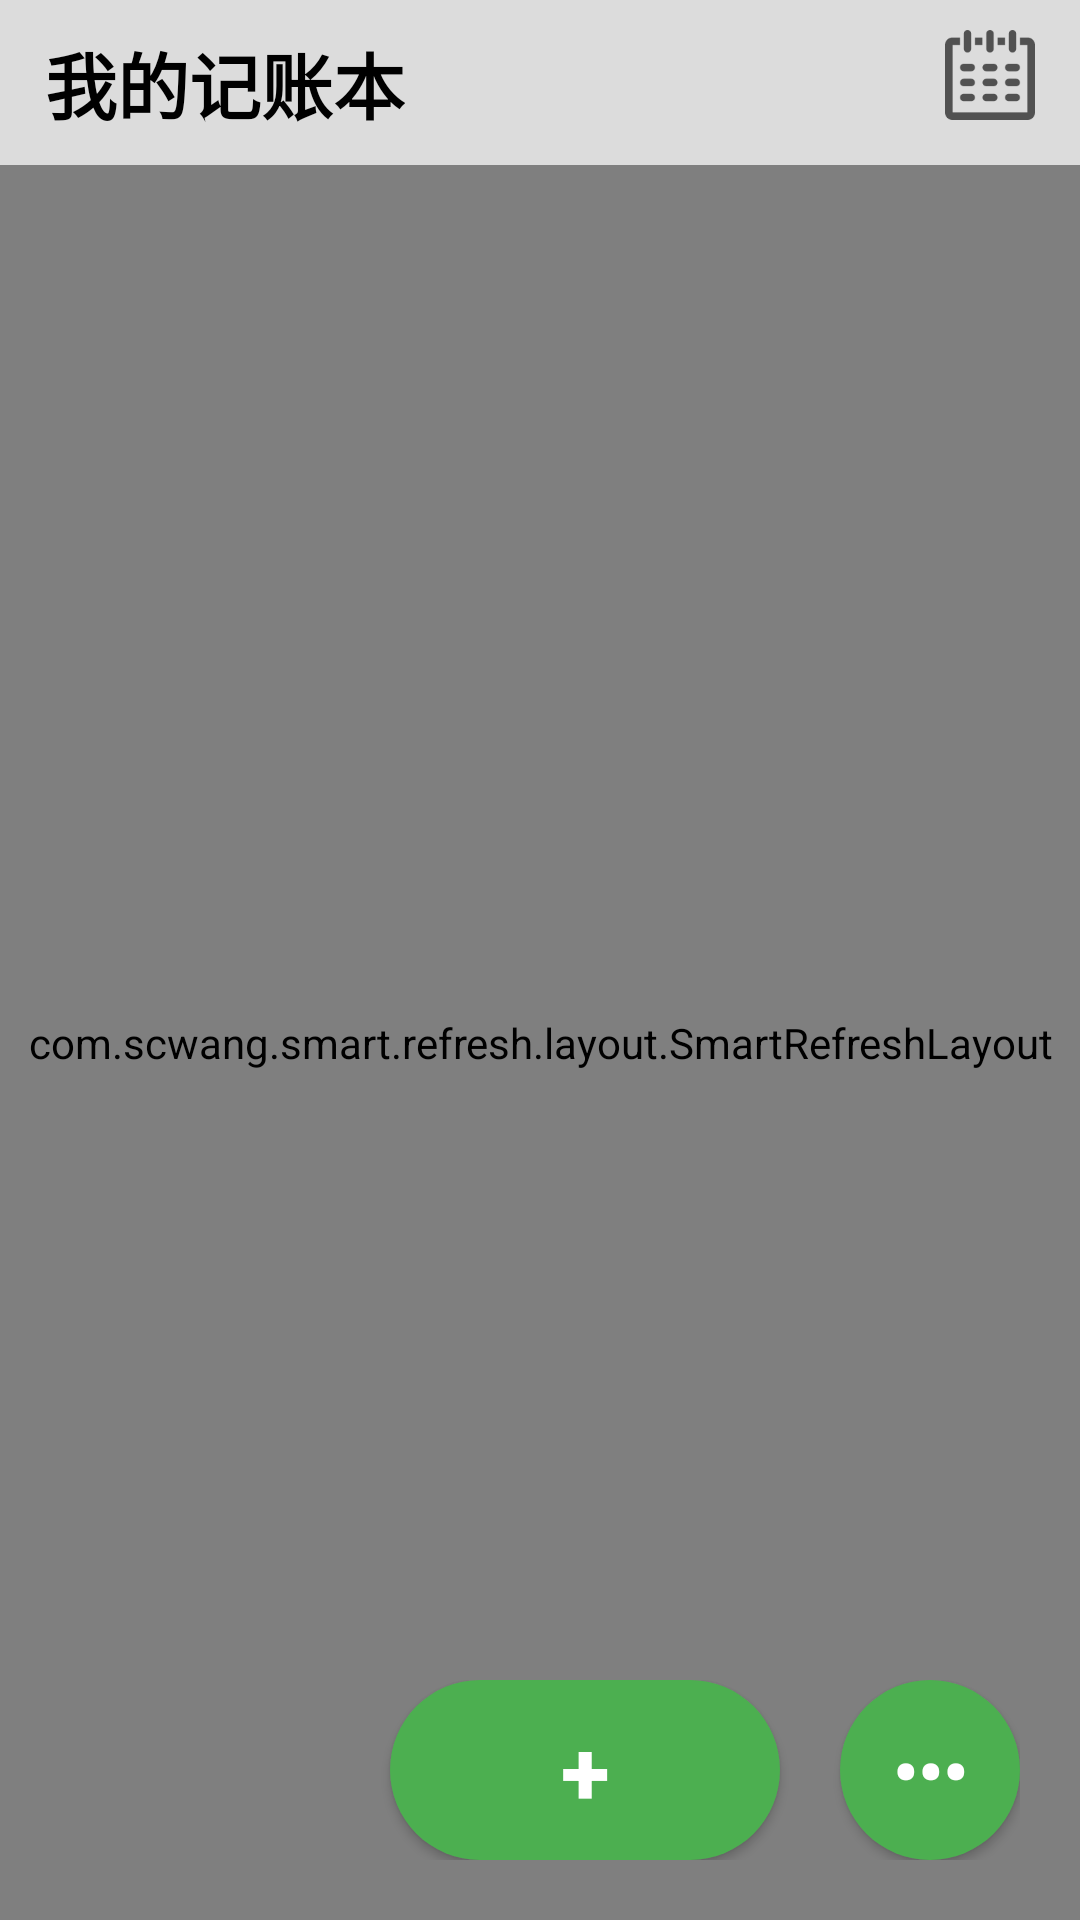

Named icons in this screenshot (1080w x 1920h) and their centers, (x=x, y=y):
calendar: (x=990, y=75)
